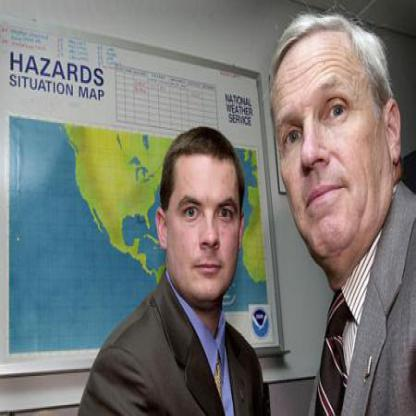face: (265, 16, 383, 259), (167, 132, 244, 303)
